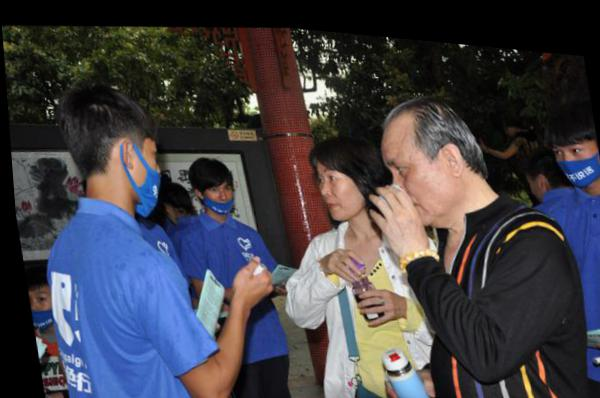NONE: (374, 110, 470, 224), (312, 152, 368, 218)
OK: (548, 120, 600, 176)
WRONG: (117, 130, 168, 221), (191, 169, 235, 214)
